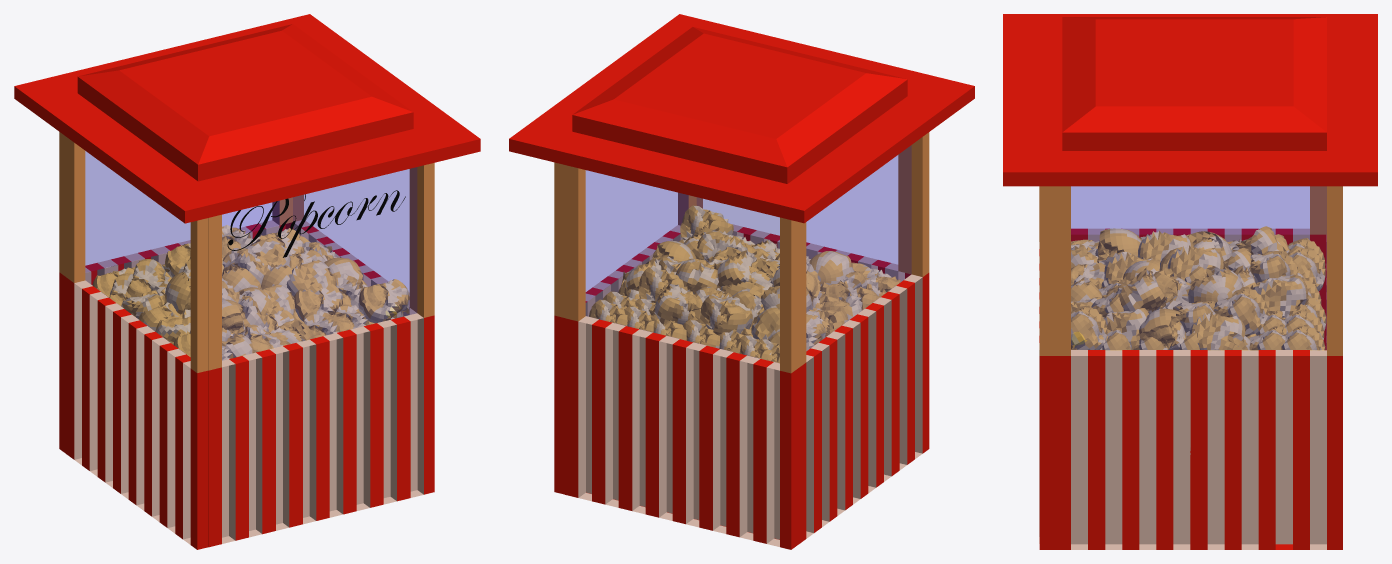
File: pop2.fbx
3 renders of one model, left to right at view 1: azimuth 30°, elevation 25°; view 2: azimuth 150°, elevation 25°; view 3: azimuth 270°, elevation 25°, orthographic. The views are drawn at different scales.
Parts seen in each view (by area): view 1: Cube, Cube.001, Sphere.058, PopCorn, Sphere.061, Sphere.050, Sphere.059, Sphere.072, Sphere.052, Sphere.074, Sphere.027, Sphere.041 (+12 smaller); view 2: Cube, Cube.001, Sphere.065, Sphere.066, Sphere.058, Sphere.072, Sphere.054, Sphere.074, Sphere.064, Sphere.061, Sphere.049, Sphere.050 (+7 smaller); view 3: Cube, Cube.001, Sphere.066, Sphere.071, Sphere.064, Sphere.061, Sphere.070, Sphere.058, Sphere.074, Sphere.072, Sphere.065, Sphere.054 (+15 smaller).
Boxes of the visible parts, x1=… form: Cube: x1=59, y1=24, x2=434, y2=549; Cube.001: x1=14, y1=14, x2=480, y2=223; Sphere.058: x1=358, y1=279, x2=409, y2=323; PopCorn: x1=227, y1=190, x2=405, y2=257; Sphere.061: x1=286, y1=259, x2=336, y2=296; Sphere.050: x1=125, y1=259, x2=169, y2=298; Sphere.059: x1=294, y1=284, x2=342, y2=321; Sphere.072: x1=222, y1=248, x2=270, y2=285; Sphere.052: x1=165, y1=271, x2=190, y2=314; Sphere.074: x1=246, y1=239, x2=291, y2=268; Sphere.027: x1=269, y1=318, x2=313, y2=345; Sphere.041: x1=332, y1=304, x2=368, y2=331; Cube: x1=554, y1=27, x2=929, y2=549; Cube.001: x1=509, y1=14, x2=974, y2=223; Sphere.065: x1=699, y1=294, x2=752, y2=334; Sphere.066: x1=649, y1=283, x2=702, y2=325; Sphere.058: x1=680, y1=205, x2=733, y2=239; Sphere.072: x1=714, y1=250, x2=758, y2=289; Sphere.054: x1=809, y1=251, x2=854, y2=286; Sphere.074: x1=676, y1=258, x2=718, y2=294; Sphere.064: x1=638, y1=267, x2=689, y2=303; Sphere.061: x1=697, y1=227, x2=747, y2=262; Sphere.049: x1=820, y1=270, x2=867, y2=297; Sphere.050: x1=751, y1=306, x2=779, y2=339; Cube: x1=1039, y1=17, x2=1342, y2=549; Cube.001: x1=1003, y1=14, x2=1377, y2=186; Sphere.066: x1=1250, y1=274, x2=1308, y2=318; Sphere.071: x1=1189, y1=312, x2=1245, y2=350; Sphere.064: x1=1213, y1=286, x2=1268, y2=336; Sphere.061: x1=1115, y1=269, x2=1167, y2=313; Sphere.070: x1=1139, y1=308, x2=1186, y2=349; Sphere.058: x1=1071, y1=305, x2=1107, y2=349; Sphere.074: x1=1188, y1=266, x2=1243, y2=302; Sphere.072: x1=1167, y1=245, x2=1224, y2=280; Sphere.065: x1=1249, y1=251, x2=1297, y2=282; Sphere.054: x1=1097, y1=228, x2=1141, y2=265.
Size of the model in its own units: 275 by 342 by 275.
